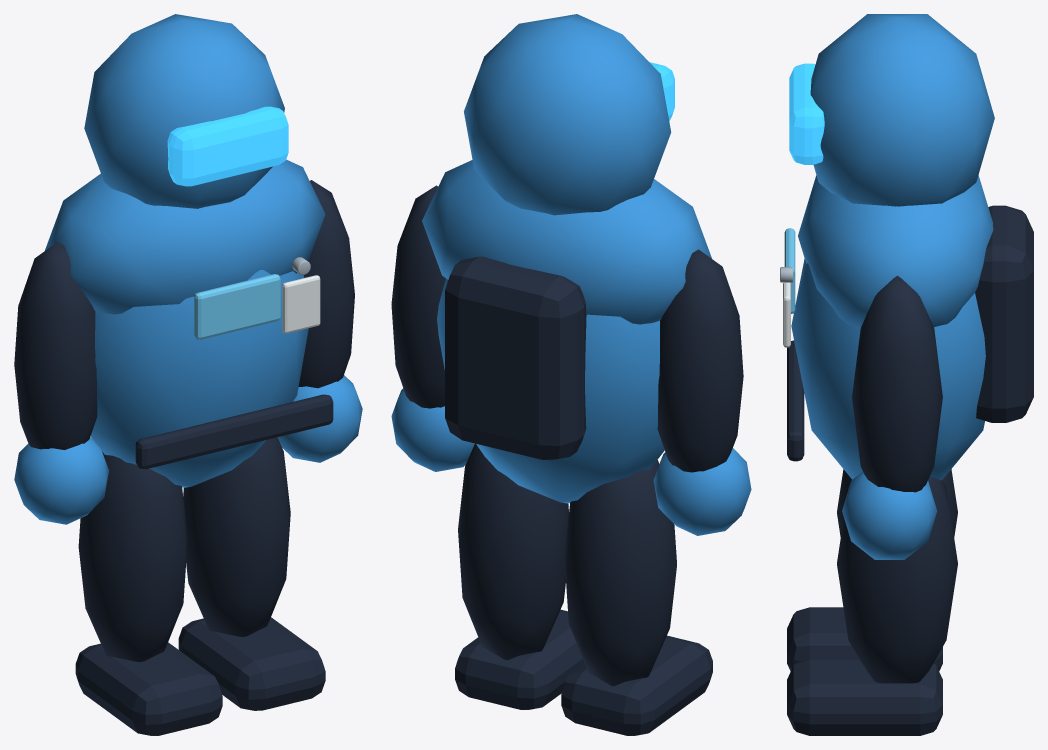
Rendered from timbas-crew-character.glb.
3 views of the same model, side by side, from view 1: azimuth 30°, elevation 25°; view 2: azimuth 150°, elevation 25°; view 3: azimuth 270°, elevation 25° (orthographic). The views are drawn at different scales.
Parts seen in each view (by area): view 1: BodyRig · Crew Body Color, LeftLegRig · Crew Dark Uniform, RightLegRig · Crew Dark Uniform, Left Uniform Arm, Panoramic Visor, Right Uniform Arm, BodyRig · Crew Dark Uniform, Left Glove, Reflective Chest Panel, Right Glove, ID Badge; view 2: BodyRig · Crew Body Color, LeftLegRig · Crew Dark Uniform, BodyRig · Crew Dark Uniform, RightLegRig · Crew Dark Uniform, Left Uniform Arm, Right Uniform Arm, Left Glove, Right Glove, Panoramic Visor; view 3: BodyRig · Crew Body Color, RightLegRig · Crew Dark Uniform, Right Uniform Arm, BodyRig · Crew Dark Uniform, Right Glove, LeftLegRig · Crew Dark Uniform, Panoramic Visor, Reflective Chest Panel, ID Badge.
Boxes of the visible parts, x1,y1,x2,y2 form: BodyRig · Crew Body Color: [45, 14, 325, 487]; LeftLegRig · Crew Dark Uniform: [75, 451, 222, 735]; RightLegRig · Crew Dark Uniform: [178, 437, 325, 710]; Left Uniform Arm: [14, 242, 97, 449]; Panoramic Visor: [167, 106, 288, 186]; Right Uniform Arm: [298, 180, 354, 388]; BodyRig · Crew Dark Uniform: [135, 394, 333, 469]; Left Glove: [14, 437, 108, 524]; Reflective Chest Panel: [194, 274, 280, 339]; Right Glove: [277, 375, 362, 462]; ID Badge: [282, 275, 320, 333]; BodyRig · Crew Body Color: [422, 14, 711, 503]; LeftLegRig · Crew Dark Uniform: [561, 460, 712, 735]; BodyRig · Crew Dark Uniform: [445, 256, 586, 460]; RightLegRig · Crew Dark Uniform: [455, 443, 584, 709]; Left Uniform Arm: [657, 249, 743, 472]; Right Uniform Arm: [391, 185, 445, 408]; Left Glove: [653, 448, 751, 535]; Right Glove: [391, 388, 474, 471]; Panoramic Visor: [649, 62, 674, 120]; BodyRig · Crew Body Color: [791, 14, 994, 480]; RightLegRig · Crew Dark Uniform: [787, 477, 957, 735]; Right Uniform Arm: [852, 275, 942, 492]; BodyRig · Crew Dark Uniform: [787, 205, 1033, 461]; Right Glove: [842, 472, 937, 559]; LeftLegRig · Crew Dark Uniform: [787, 469, 957, 671]; Panoramic Visor: [789, 63, 824, 164]; Reflective Chest Panel: [784, 228, 795, 313]; ID Badge: [783, 282, 790, 347].
Bounding box in the file's own units: 0.9087 × 1.73 × 0.586.
